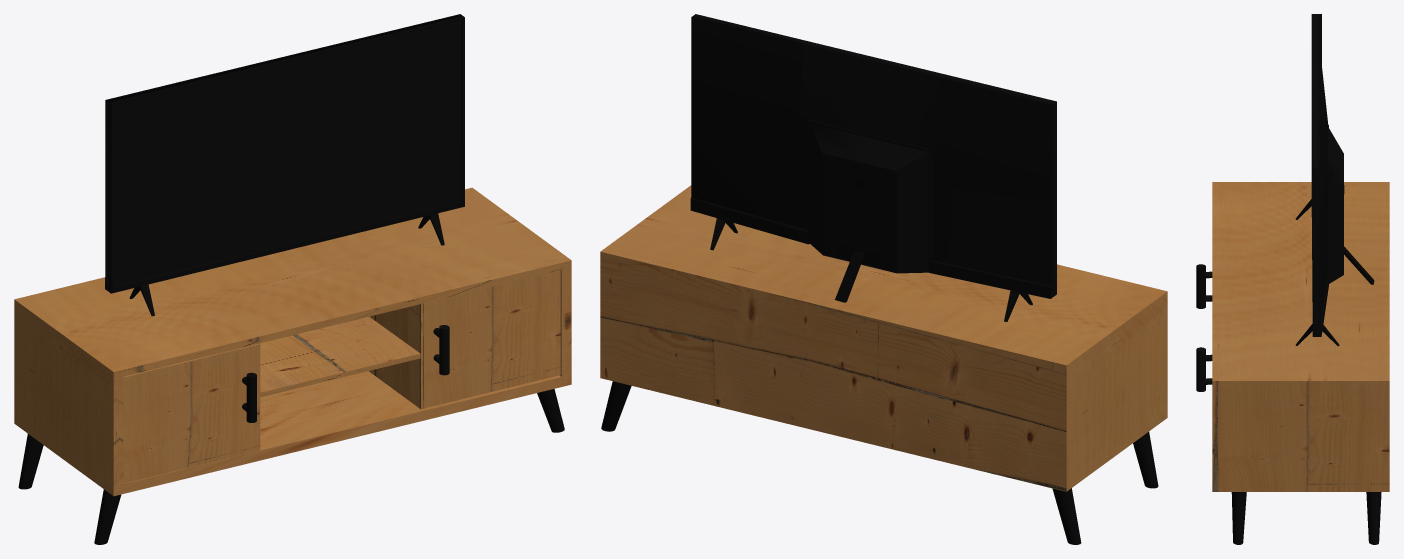
The model's file is Table and TV.obj.
3 views of the same model, side by side, from view 1: azimuth 30°, elevation 25°; view 2: azimuth 150°, elevation 25°; view 3: azimuth 270°, elevation 25° (orthographic). The views are drawn at different scales.
Parts seen in each view (by area): view 1: Cube.006, Plane.003, Cube.010, Cube.009, Cube, Cube.011, Cube.007, Cylinder.008, Cylinder.010, Cylinder.009; view 2: Cube.006, Cube, Cylinder.010, Cylinder.011, Cylinder.008; view 3: Cube.006, Cube, Cylinder.011, Cylinder.009, Cylinder.002, Cylinder.007, Cube.001.
Boxes of the visible parts, x1,y1,x2,y2 form: Cube.006: (14,187,571,496); Plane.003: (114,20,461,286); Cube.010: (123,343,259,483); Cube.009: (423,270,560,408); Cube: (105,14,464,293); Cube.011: (260,316,420,397); Cube.007: (369,303,424,409); Cylinder.008: (94,489,121,544); Cylinder.010: (18,434,43,489); Cylinder.009: (537,389,564,432); Cube.006: (600,185,1167,491); Cube: (690,14,1056,298); Cylinder.010: (1052,488,1081,544); Cylinder.011: (601,381,631,431); Cylinder.008: (1133,432,1158,488); Cube.006: (1212,182,1389,491); Cube: (1311,14,1343,336); Cylinder.011: (1366,492,1381,544); Cylinder.009: (1231,492,1246,544); Cylinder.002: (1196,264,1205,308); Cylinder.007: (1196,347,1205,391); Cube.001: (1344,246,1374,284).
Size of what is drawn, in the model's own units: 4.17 by 3.35 by 1.67.
27 materials, 6 textured.
